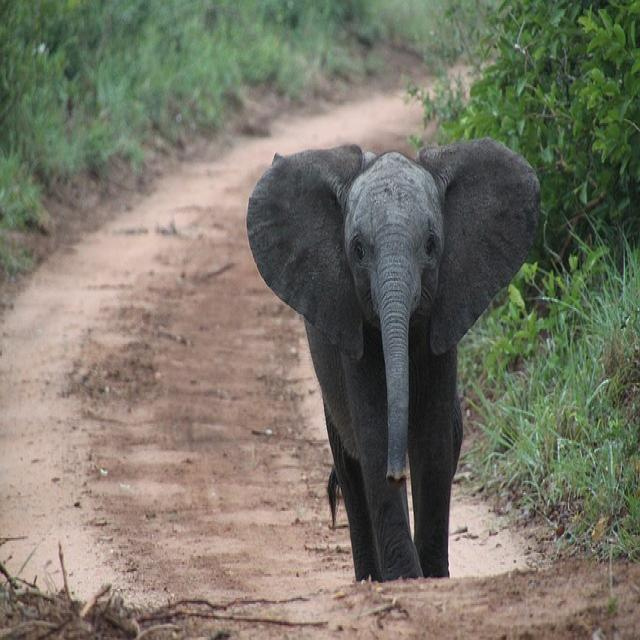elephant: (246, 139, 540, 579)
